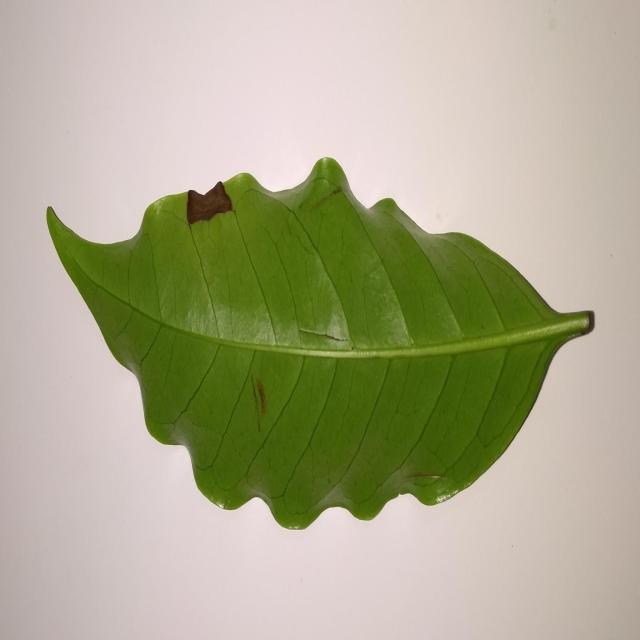Enfermedad-Antracnosis: (44, 158, 596, 532)
